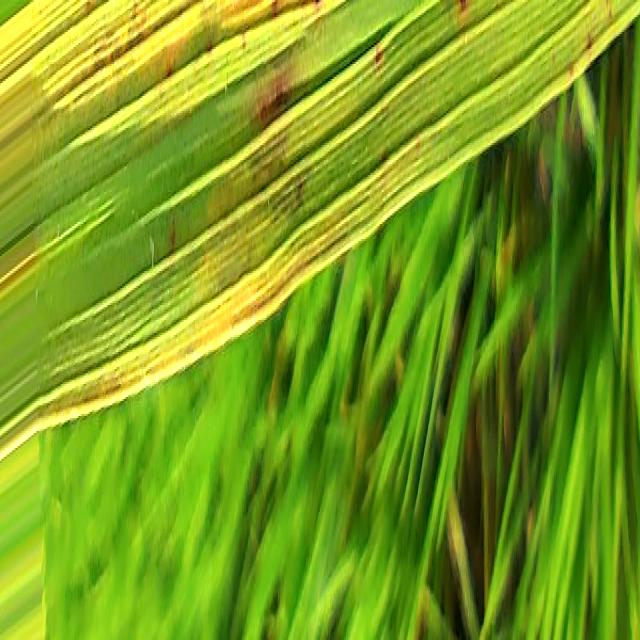NBS: (255, 71, 291, 125), (167, 204, 177, 277), (584, 26, 593, 63), (604, 0, 613, 35), (567, 55, 574, 78), (552, 41, 556, 76)
